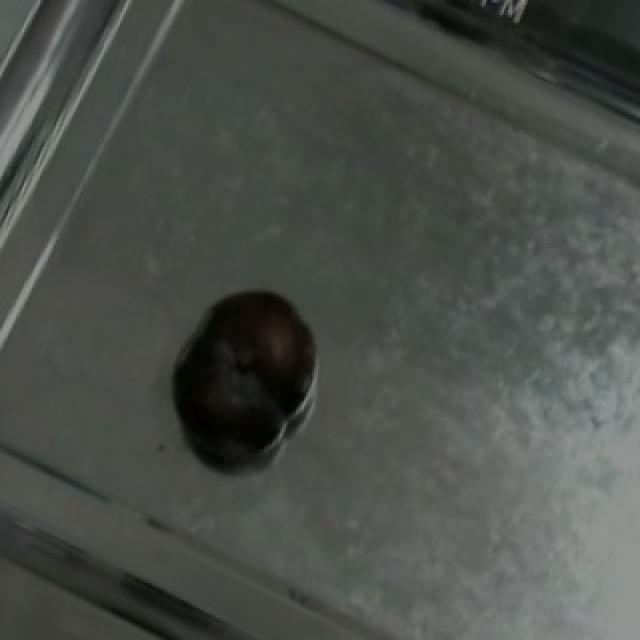Fruit: (156, 268, 336, 471)
